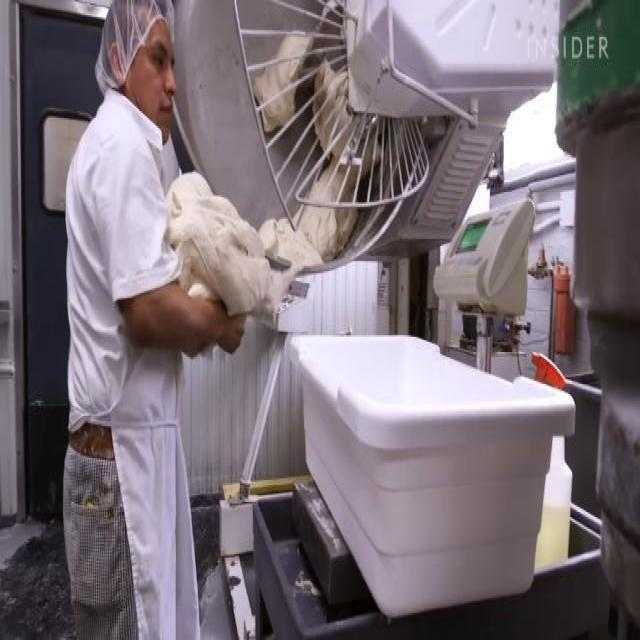bare_hand: (200, 283, 253, 374)
